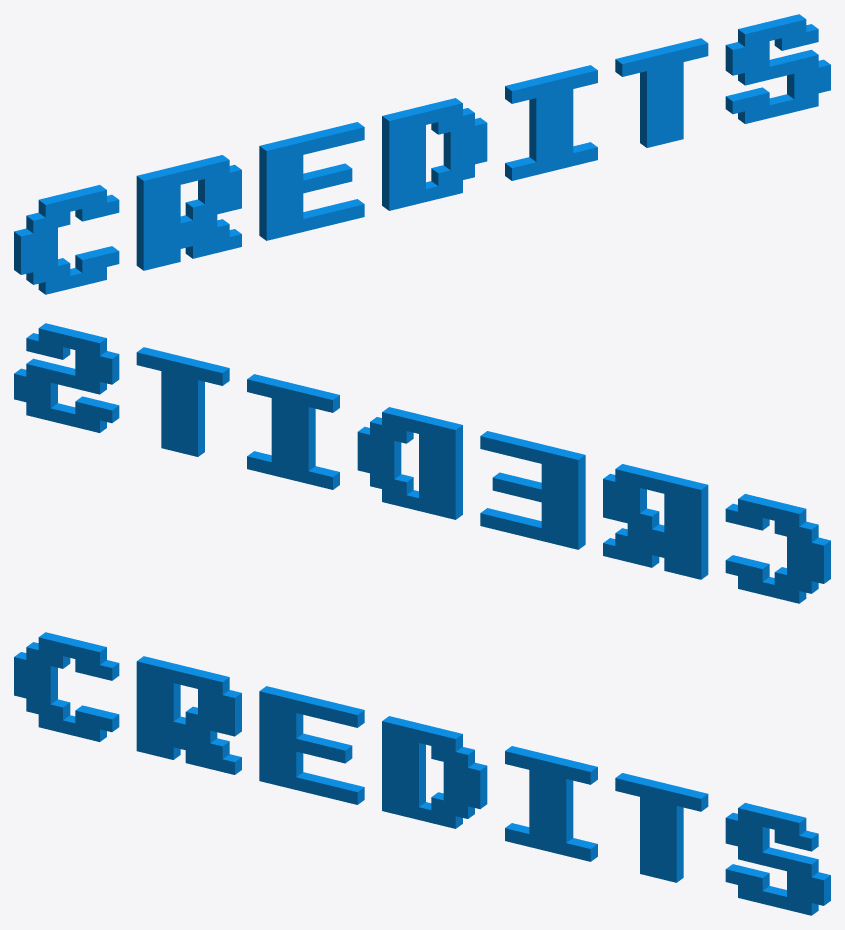
The model's file is credits.obj.
3 views of the same model, one above another, from view 1: azimuth 30°, elevation 25°; view 2: azimuth 150°, elevation 25°; view 3: azimuth 330°, elevation 25° (orthographic).
Visible parts, largest first — view 1: credits; view 2: credits; view 3: credits.
Boxes of the visible parts, x1=… form: credits: x1=14, y1=14, x2=830, y2=294; credits: x1=14, y1=323, x2=830, y2=603; credits: x1=14, y1=632, x2=830, y2=915.
Bounding box in the file's own units: 66 × 7 × 1.
Materials: 1 (1 with a texture image).
